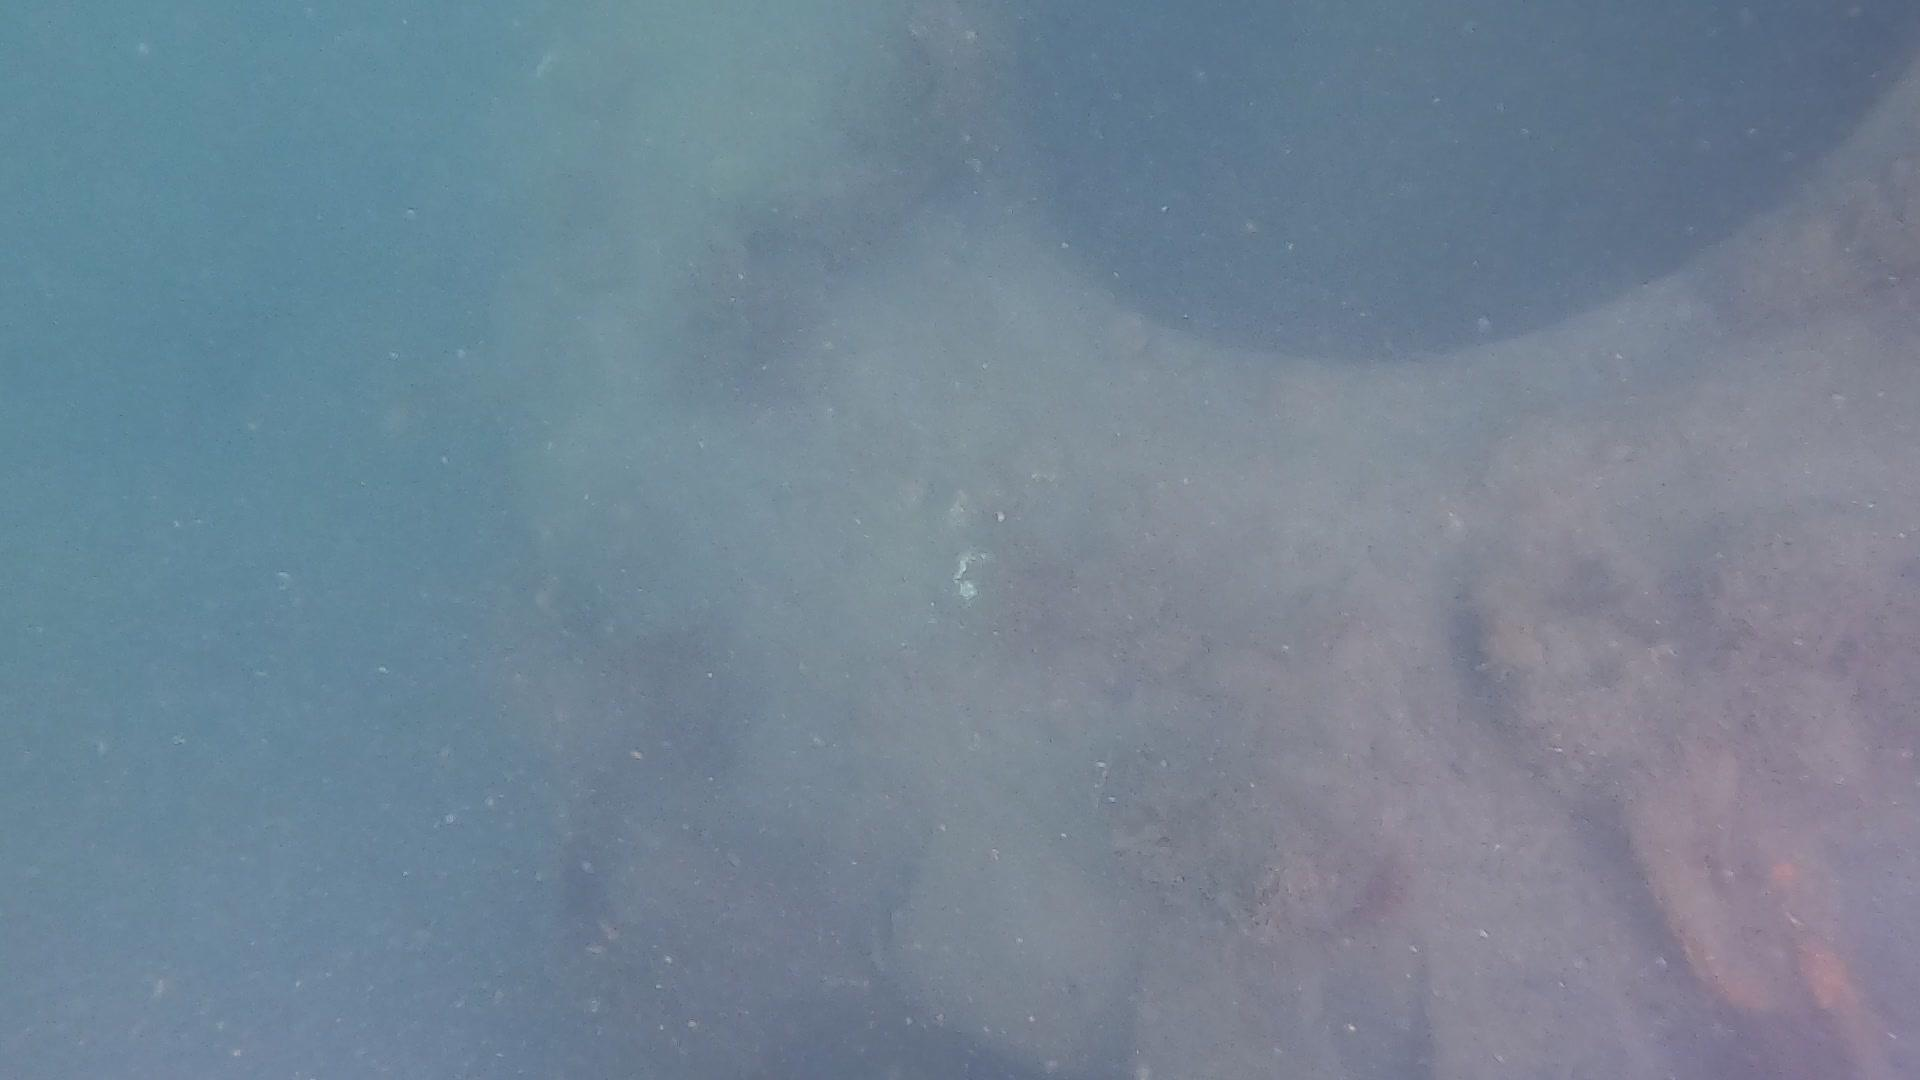tire: (483, 0, 1920, 1080)
